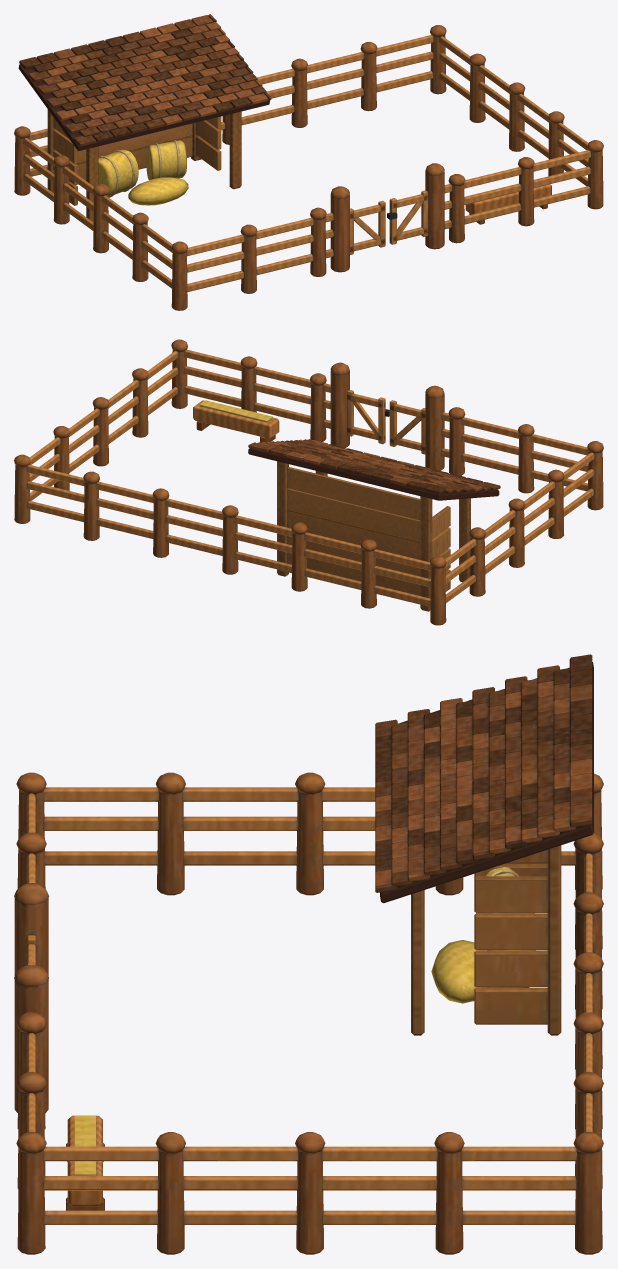
The model's file is donkey_paddock.glb.
The picture shows the model from 3 angles, top to bottom: view 1: azimuth 30°, elevation 25°; view 2: azimuth 150°, elevation 25°; view 3: azimuth 270°, elevation 25°; orthographic projection. The views are drawn at different scales.
Parts seen in each view (by area): view 1: donkey_paddock, gate1, gate0; view 2: donkey_paddock, gate1, gate0; view 3: donkey_paddock.
Part boxes in pixels (left/top/right/bottom): donkey_paddock: left=14, top=14, right=603, bottom=310; gate1: left=387, top=190, right=428, bottom=244; gate0: left=350, top=200, right=385, bottom=254; donkey_paddock: left=14, top=339, right=603, bottom=625; gate1: left=347, top=389, right=389, bottom=444; gate0: left=389, top=400, right=425, bottom=454; donkey_paddock: left=14, top=654, right=603, bottom=1254.
Bounding box in the file's own units: 3 × 0.9343 × 2.01.
Materials: 1 (1 with a texture image).
